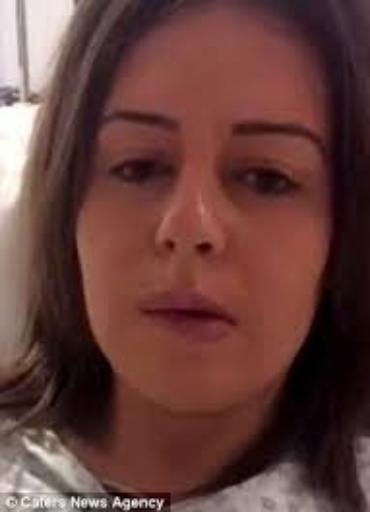left_eye: (234, 169, 301, 203)
left_lip_corner: (222, 309, 247, 335)
right_eye: (110, 157, 174, 189)
right_lip_corner: (131, 298, 162, 324)
